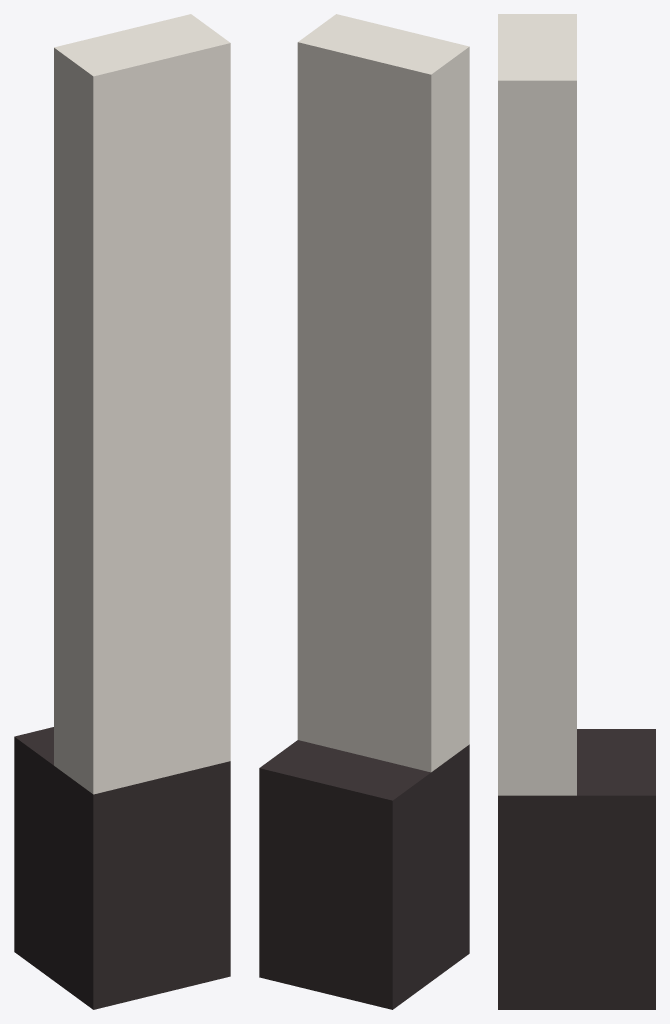
The model's file is cow__tail.glb.
The picture shows the model from 3 angles, left to right: view 1: azimuth 30°, elevation 25°; view 2: azimuth 150°, elevation 25°; view 3: azimuth 270°, elevation 25°; orthographic projection. The views are drawn at different scales.
Visible parts, largest first — view 1: cow__tail; view 2: cow__tail; view 3: cow__tail.
Part boxes in pixels (left/top/right/bottom): cow__tail: left=14, top=14, right=230, bottom=1009; cow__tail: left=259, top=14, right=469, bottom=1009; cow__tail: left=498, top=14, right=655, bottom=1009.
Bounding box in the file's own units: 0.2 × 1.3 × 0.2.
Materials: 1 (1 with a texture image).
